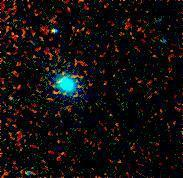star: (39, 20, 69, 50)
